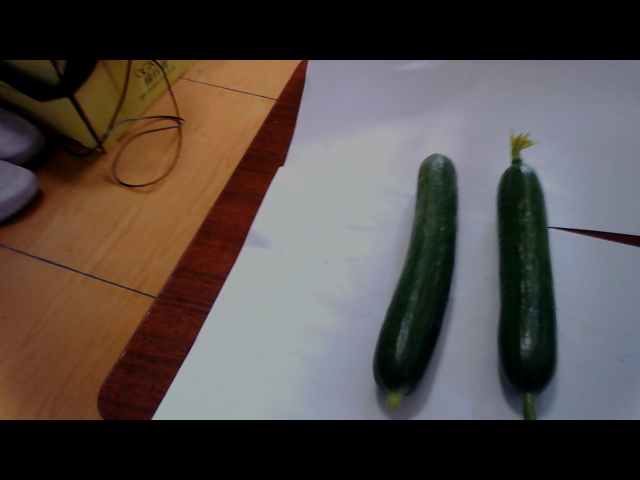cucumber: (371, 145, 464, 415), (481, 143, 569, 417)
